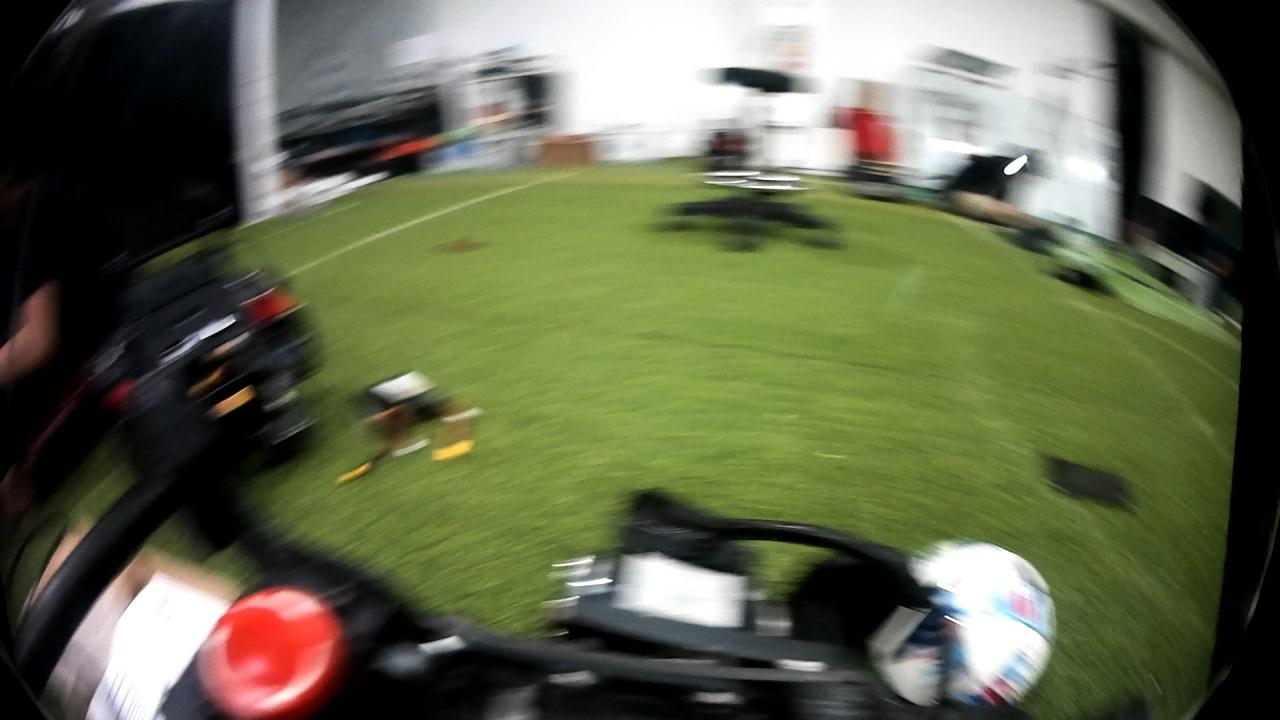ball: (859, 528, 1063, 715)
